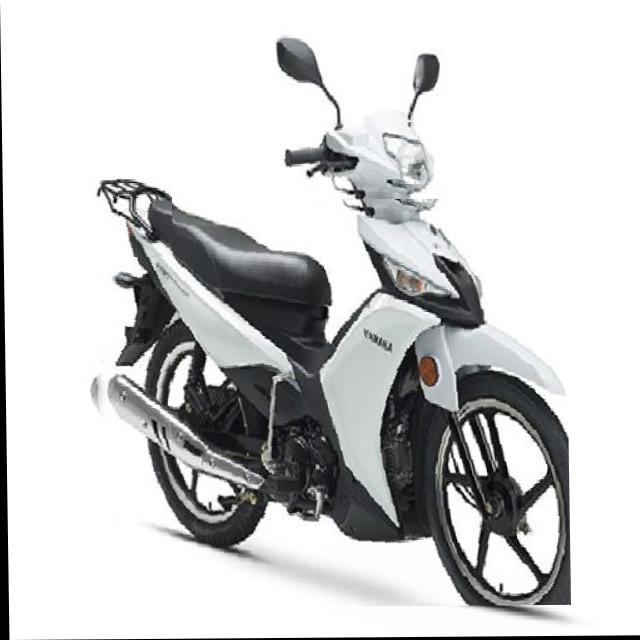All: (76, 103, 569, 609)
Head: (281, 115, 448, 200)
Tail: (93, 175, 172, 258)
